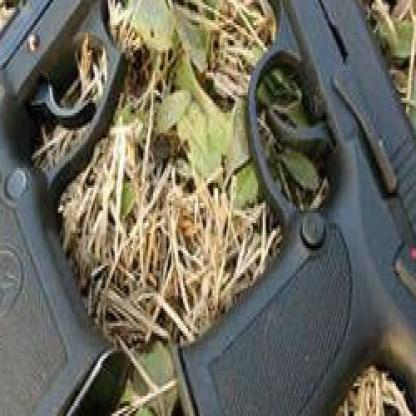gun: (171, 0, 415, 414), (0, 0, 184, 414)
